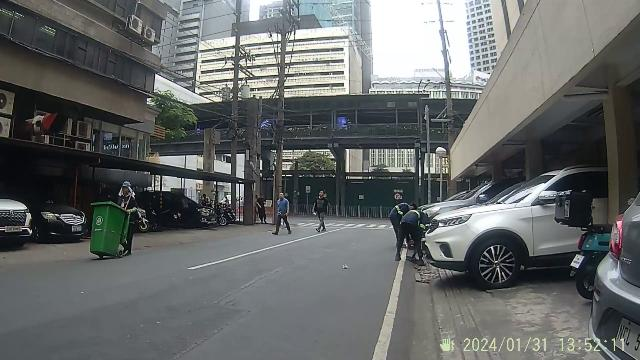garbage: (82, 194, 138, 262)
lamp_post: (436, 146, 446, 194)
